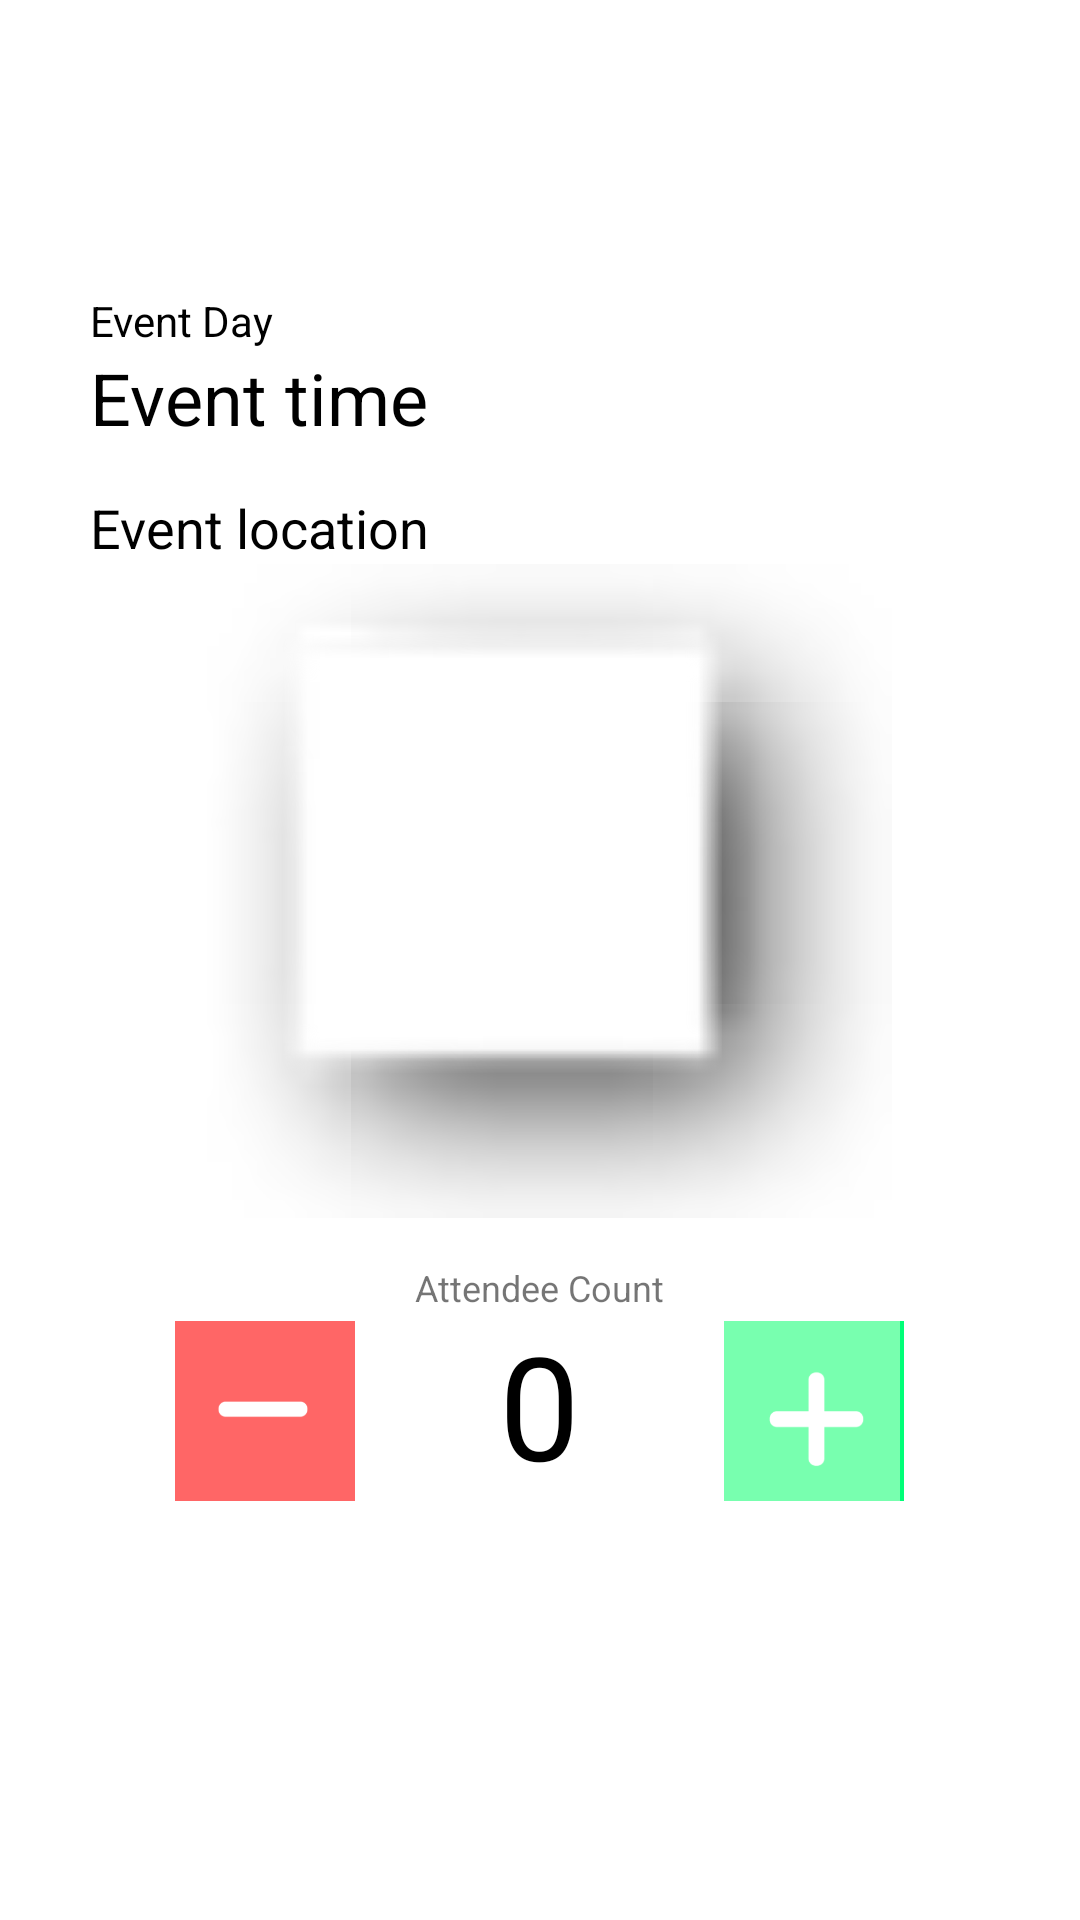

Where to tap for icons on this 1080 × 1920 app screen, as (x=x, y=y):
minus: (x=265, y=1411)
plus: (x=814, y=1411)
